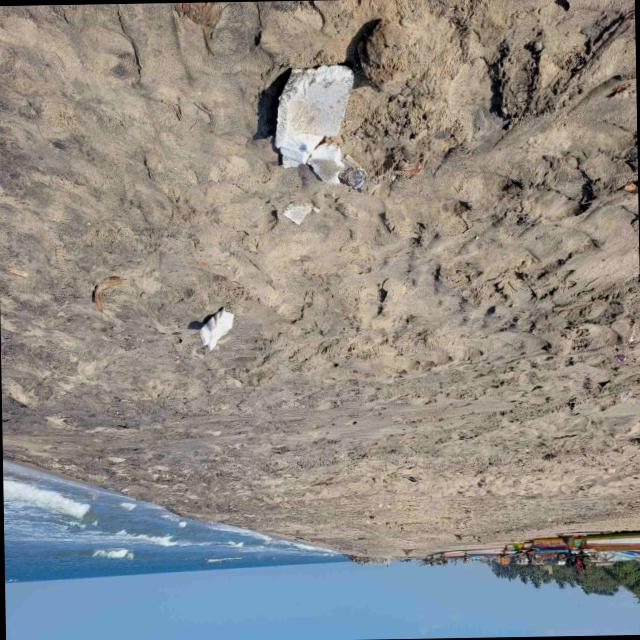xop: (274, 65, 353, 183), (199, 308, 232, 349), (283, 202, 313, 223)
